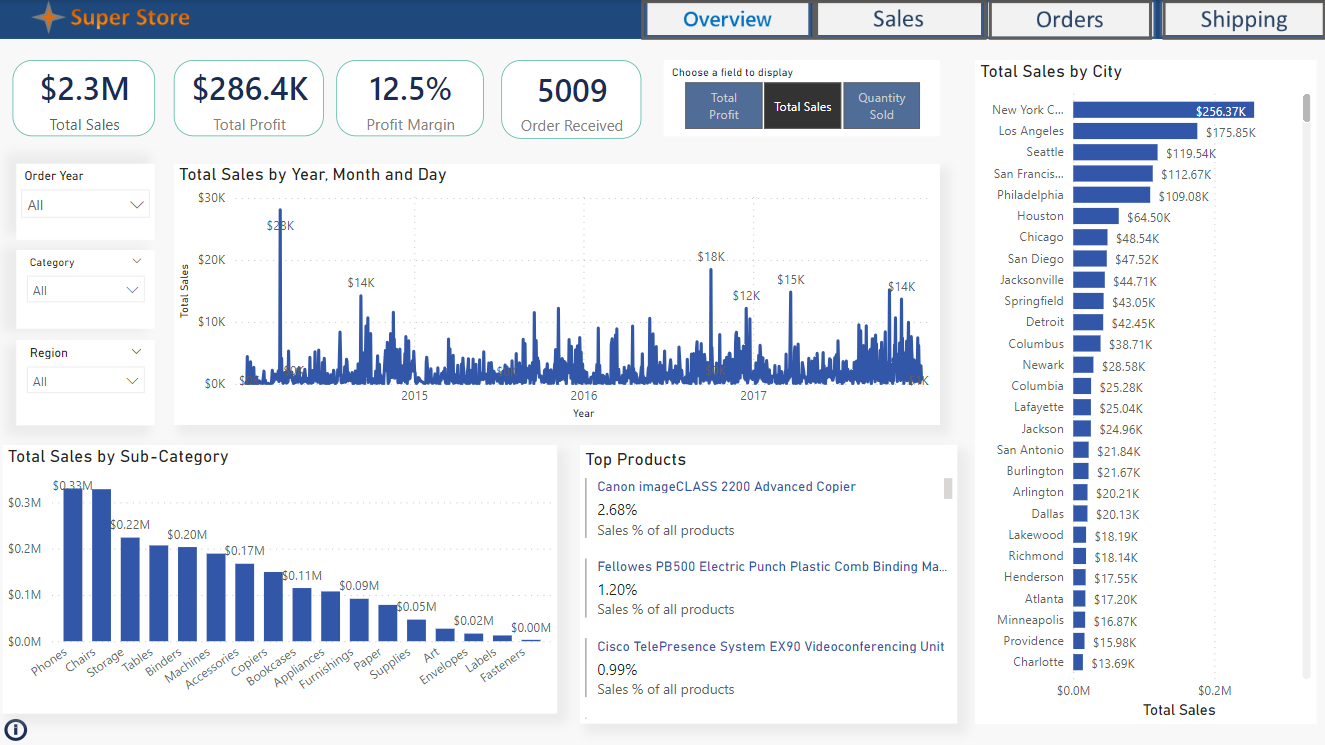

Layout of this report page (visuals, bound fields, positions):
{"tool":"powerbi","page":{"name":"Overview","canvas":[1280,720],"ordinal":0},"visuals":[{"type":"actionButton","box":[618.7,0,167.6,38.6],"z":0},{"type":"card","fields":{"Values":["Financial Measures.Total Sales"]},"box":[12.1,57.9,137.5,73.6],"z":1000},{"type":"actionButton","box":[954,0,158,38.6],"z":2000},{"type":"card","fields":{"Values":["Financial Measures.Total Profit"]},"box":[167.6,57.9,144.7,73.6],"z":3000},{"type":"actionButton","box":[786.3,0,165.2,38.6],"z":4000},{"type":"card","fields":{"Values":["Financial Measures.Profit Margin"]},"box":[324.4,57.9,142.3,73.6],"z":5000},{"type":"actionButton","box":[1121.6,0,158,38.6],"z":6000},{"type":"slicer","fields":{"Values":["Orders.Region"]},"box":[15.7,328,133.9,82],"z":7000},{"type":"card","fields":{"Values":["Financial Measures.Order Received"]},"box":[483.6,57.9,135.1,76],"z":8000},{"type":"actionButton","box":[0,688.6,30.2,31.4],"z":9000},{"type":"columnChart","fields":{"Y":["Financial Measures.Total Sales"],"Category":["Orders.Sub-Category"]},"box":[2.4,429.3,535.5,259.3],"z":10000},{"type":"barChart","fields":{"Y":["Financial Measures.Total Sales"],"Category":["Orders.City"]},"box":[940.7,57.9,329.2,640.4],"z":11000},{"type":"multiRowCard","title":"Top Products","fields":{"Values":["Orders.Product Name","Financial Measures.Sales % of all products"]},"box":[559.6,429.3,364.2,268.9],"z":12000},{"type":"lineChart","fields":{"Y":["Financial Measures.Total Sales"],"Category":["Orders.Order Date.Variation.Date Hierarchy.Year","Orders.Order Date.Variation.Date Hierarchy.Month","Orders.Order Date.Variation.Date Hierarchy.Day"]},"box":[167.6,158,739.3,252.1],"z":13000},{"type":"slicer","fields":{"Values":["sales parameter.sales parameter"]},"box":[640.4,57.9,266.5,73.6],"z":14000},{"type":"slicer","fields":{"Values":["Orders.Order Year"]},"box":[15.7,158,133.9,73.6],"z":15000},{"type":"slicer","fields":{"Values":["Orders.Category"]},"box":[15.7,241.2,133.9,76],"z":16000}]}

Visuals, with their boxes in screenshot pixels (x1, y1, x2, y2), scaled from the page's 1280x720 canvas onto the 1325x745 screenshot:
actionButton: crop(640, 0, 814, 40)
card - Financial Measures.Total Sales: crop(13, 60, 155, 136)
actionButton: crop(988, 0, 1151, 40)
card - Financial Measures.Total Profit: crop(173, 60, 323, 136)
actionButton: crop(814, 0, 985, 40)
card - Financial Measures.Profit Margin: crop(336, 60, 483, 136)
actionButton: crop(1161, 0, 1324, 40)
slicer - Orders.Region: crop(16, 339, 155, 424)
card - Financial Measures.Order Received: crop(501, 60, 640, 139)
actionButton: crop(0, 713, 31, 744)
columnChart - Financial Measures.Total Sales x Orders.Sub-Category: crop(2, 444, 557, 713)
barChart - Financial Measures.Total Sales x Orders.City: crop(974, 60, 1315, 723)
"Top Products" multiRowCard: crop(579, 444, 956, 722)
lineChart - Financial Measures.Total Sales x Orders.Order Date.Variation.Date Hierarchy.Year: crop(173, 163, 939, 424)
slicer - sales parameter.sales parameter: crop(663, 60, 939, 136)
slicer - Orders.Order Year: crop(16, 163, 155, 240)
slicer - Orders.Category: crop(16, 250, 155, 328)
